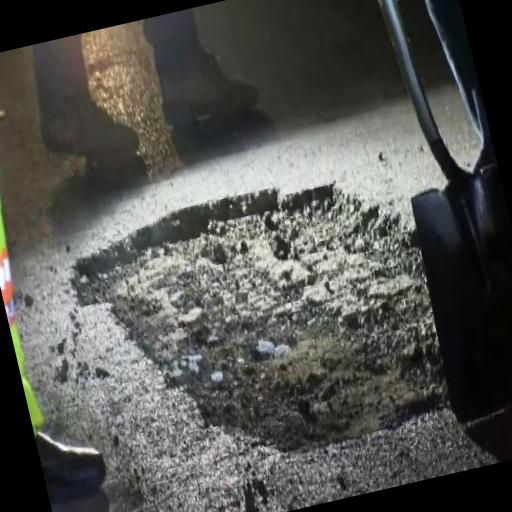pothole: (56, 144, 488, 494)
